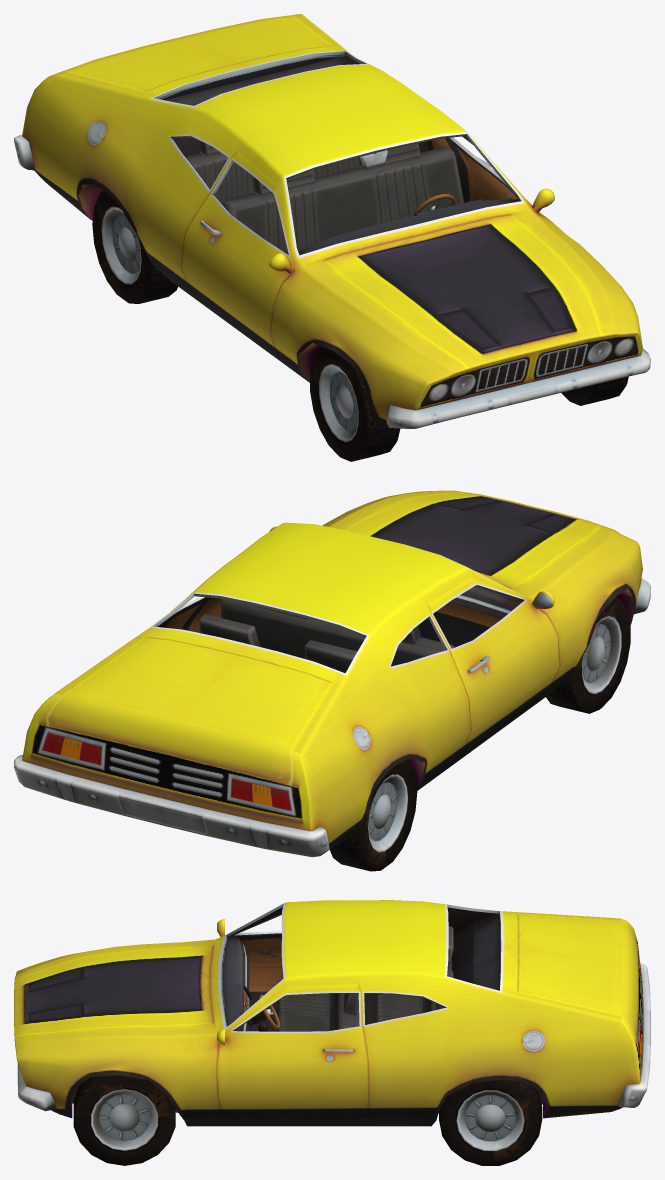
The model's file is CarOld04.FBX.
3 views of the same model, one above another, from view 1: azimuth 30°, elevation 25°; view 2: azimuth 150°, elevation 25°; view 3: azimuth 270°, elevation 25° (orthographic). The views are drawn at different scales.
Visible parts, largest first — view 1: CarOld04; view 2: CarOld04; view 3: CarOld04.
Part boxes in pixels (left/top/right/bottom): CarOld04: left=14, top=14, right=650, bottom=461; CarOld04: left=14, top=490, right=650, bottom=871; CarOld04: left=14, top=900, right=650, bottom=1165.
Bounding box in the file's own units: 2.28 × 1.52 × 4.81.
